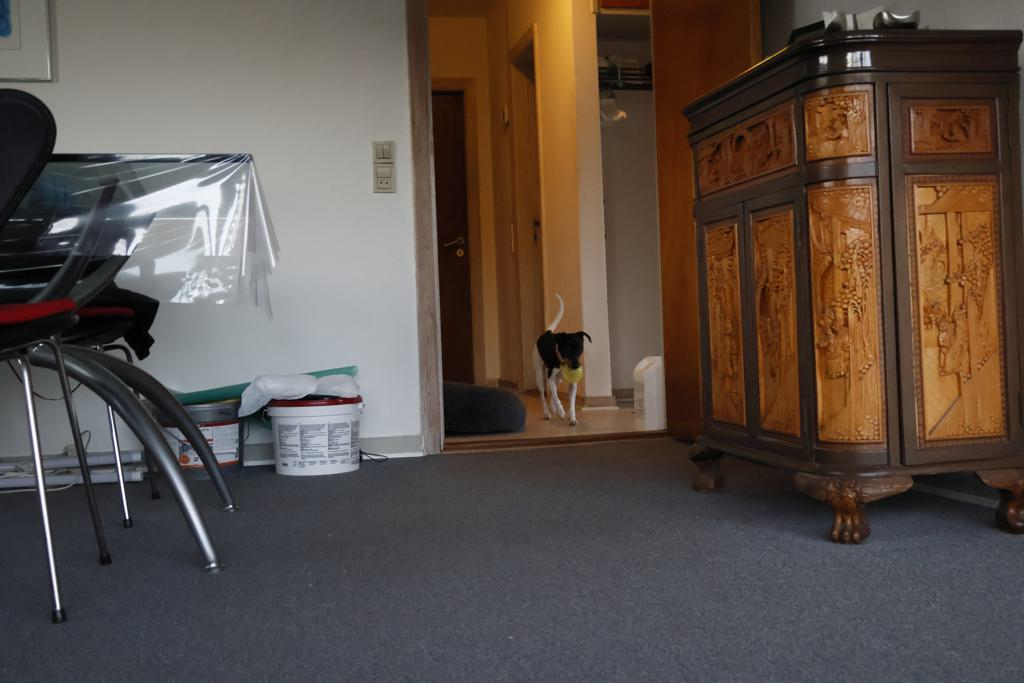Dog: (526, 289, 598, 430)
